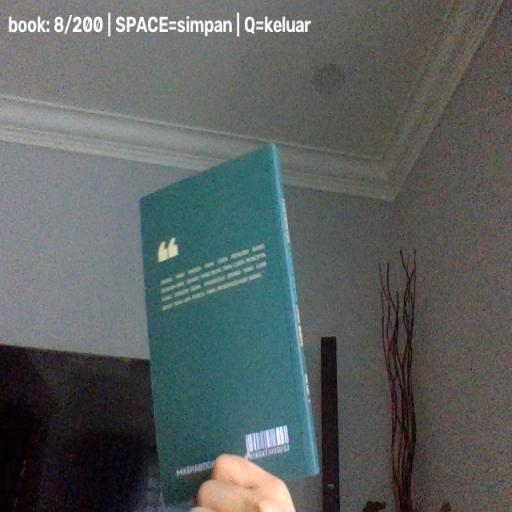Book: (138, 144, 321, 502)
